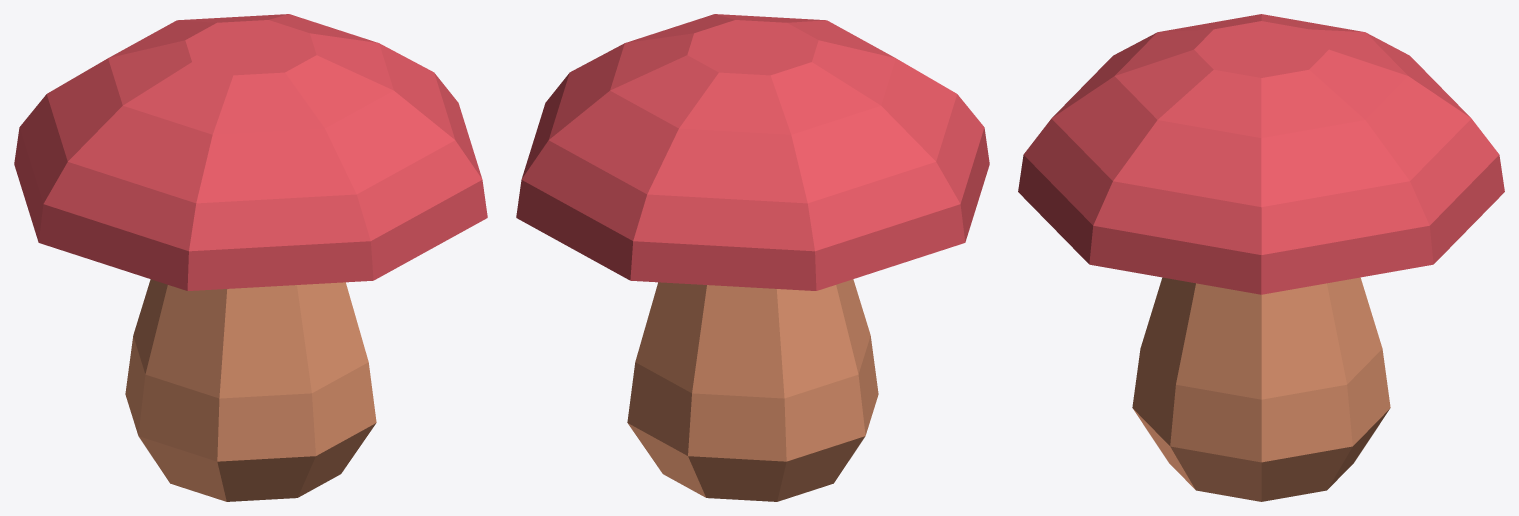
Rendered from Mushroom005.fbx.
3 renders of one model, left to right at view 1: azimuth 30°, elevation 25°; view 2: azimuth 150°, elevation 25°; view 3: azimuth 270°, elevation 25°, orthographic.
Visible parts, largest first — view 1: Mushroom005; view 2: Mushroom005; view 3: Mushroom005.
Part boxes in pixels (x1,y1,x2,y2): Mushroom005: (14,14,487,501); Mushroom005: (516,14,989,501); Mushroom005: (1018,14,1504,501).
Size of the model in its own units: 0.5148 by 0.4821 by 0.5148.
